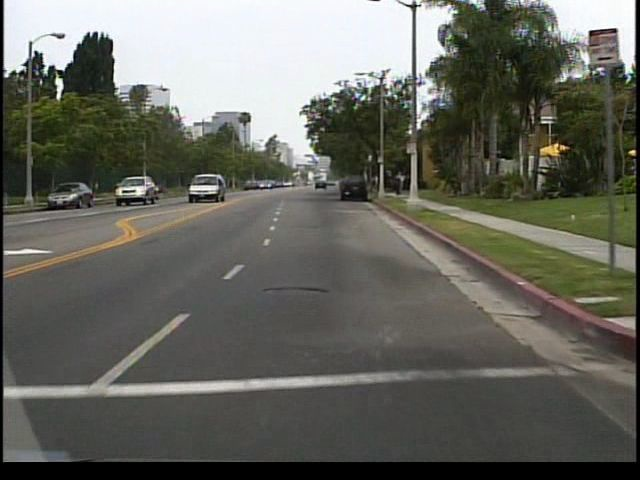person: (396, 169, 409, 198), (392, 174, 401, 195)
